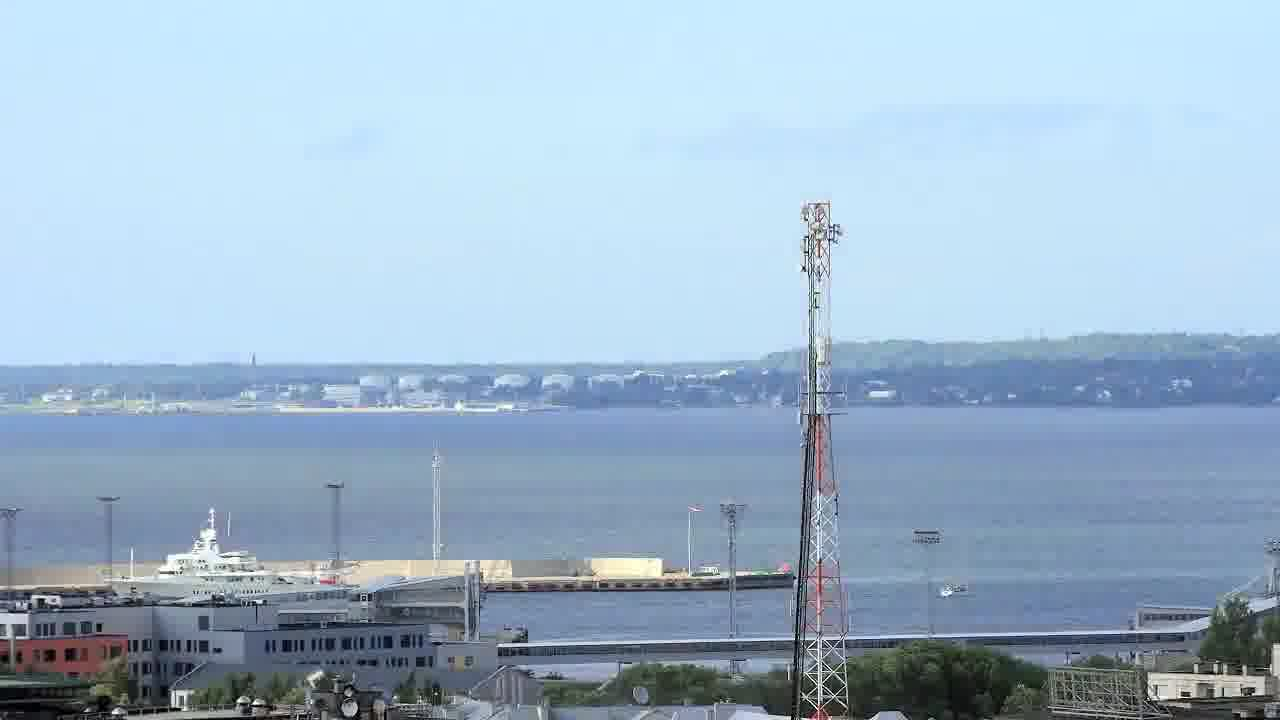type-0: (923, 566, 995, 610)
type-3: (88, 507, 346, 605)
